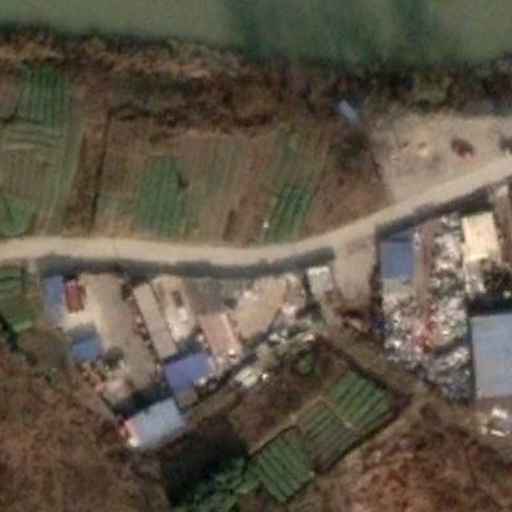msw: (386, 211, 473, 401)
